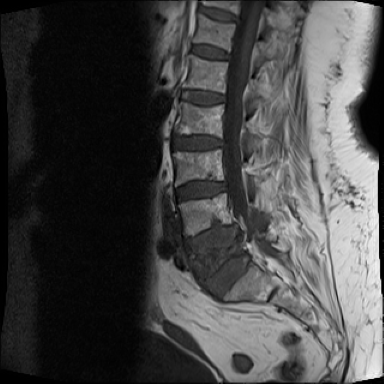Degenerative Disc Disease (DDD): (165, 132, 229, 154), (193, 4, 243, 28)
Lumbar Disc Bulge (LDB): (204, 244, 265, 305), (180, 216, 248, 251), (173, 175, 231, 204), (172, 84, 229, 109)
Normal IVD: (180, 43, 234, 65)
Spinal Stenosis (SS): (227, 215, 248, 247), (237, 245, 258, 269), (217, 131, 230, 150)
